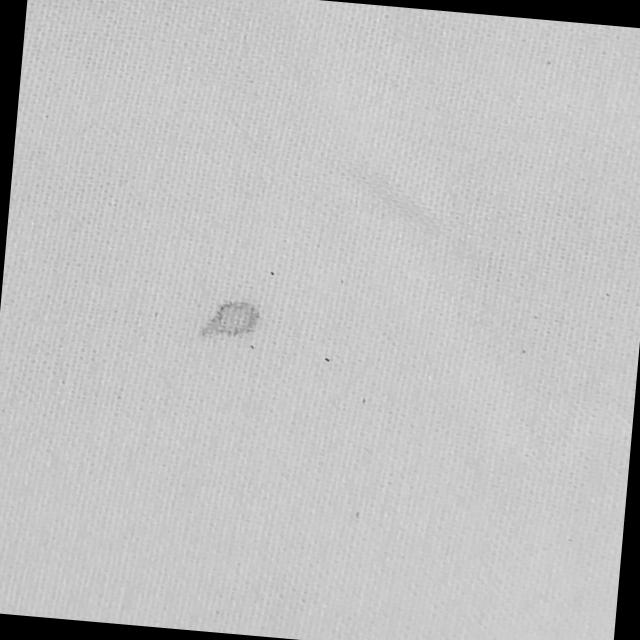Stain: (193, 293, 266, 343)
